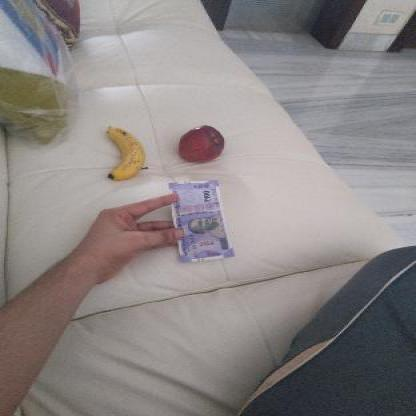New100Front: (166, 179, 231, 261)
